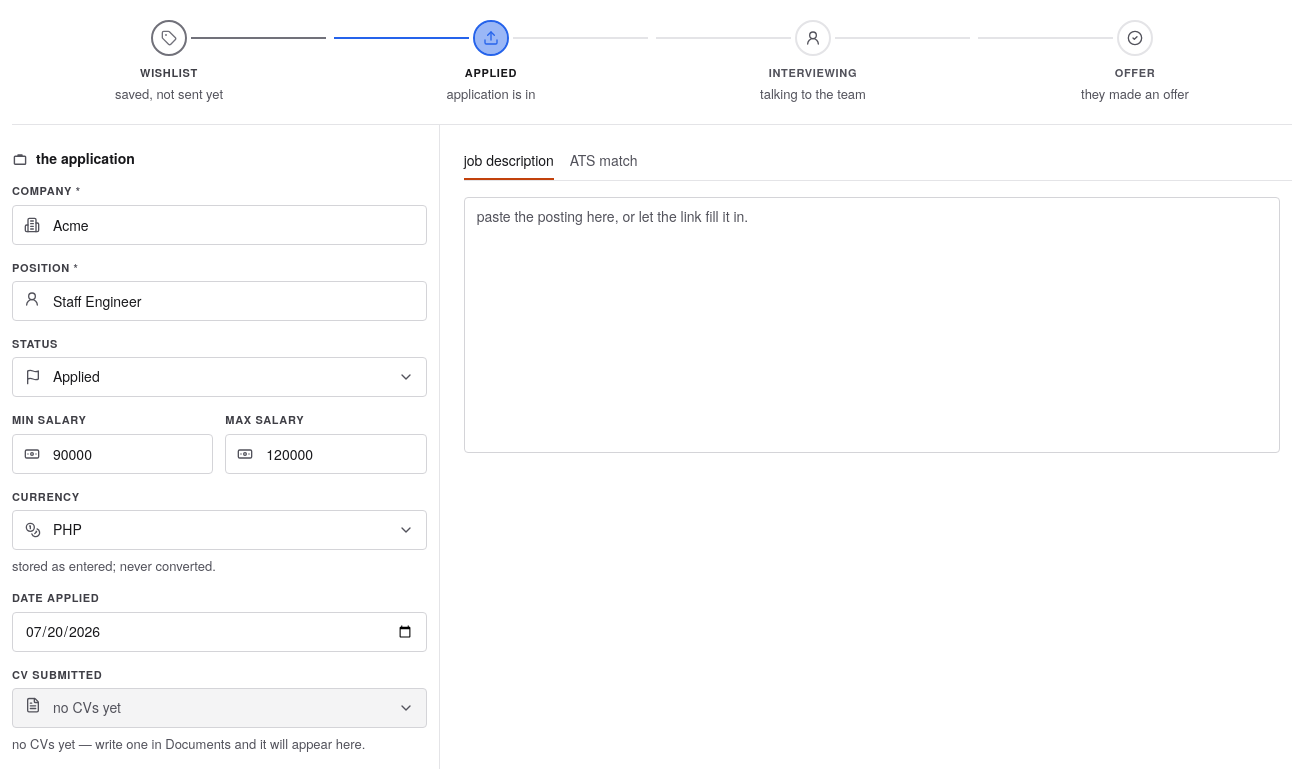
Test case: the interview date on an application record › appears only once the status is interviewing
Click the dropdown named "status" at (76, 376), box x1=12 y1=357 x2=427 y2=397
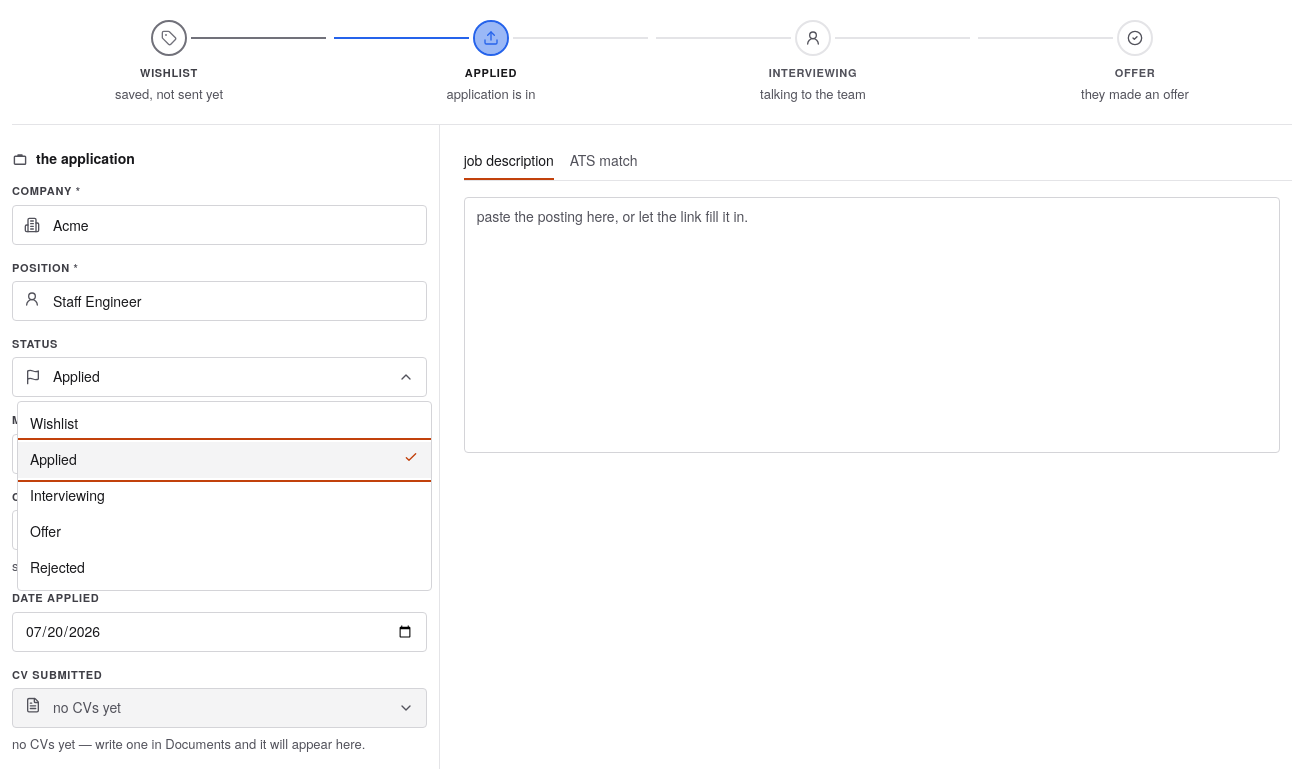
Click the option "Interviewing" at (67, 495), box x1=30 y1=485 x2=105 y2=505
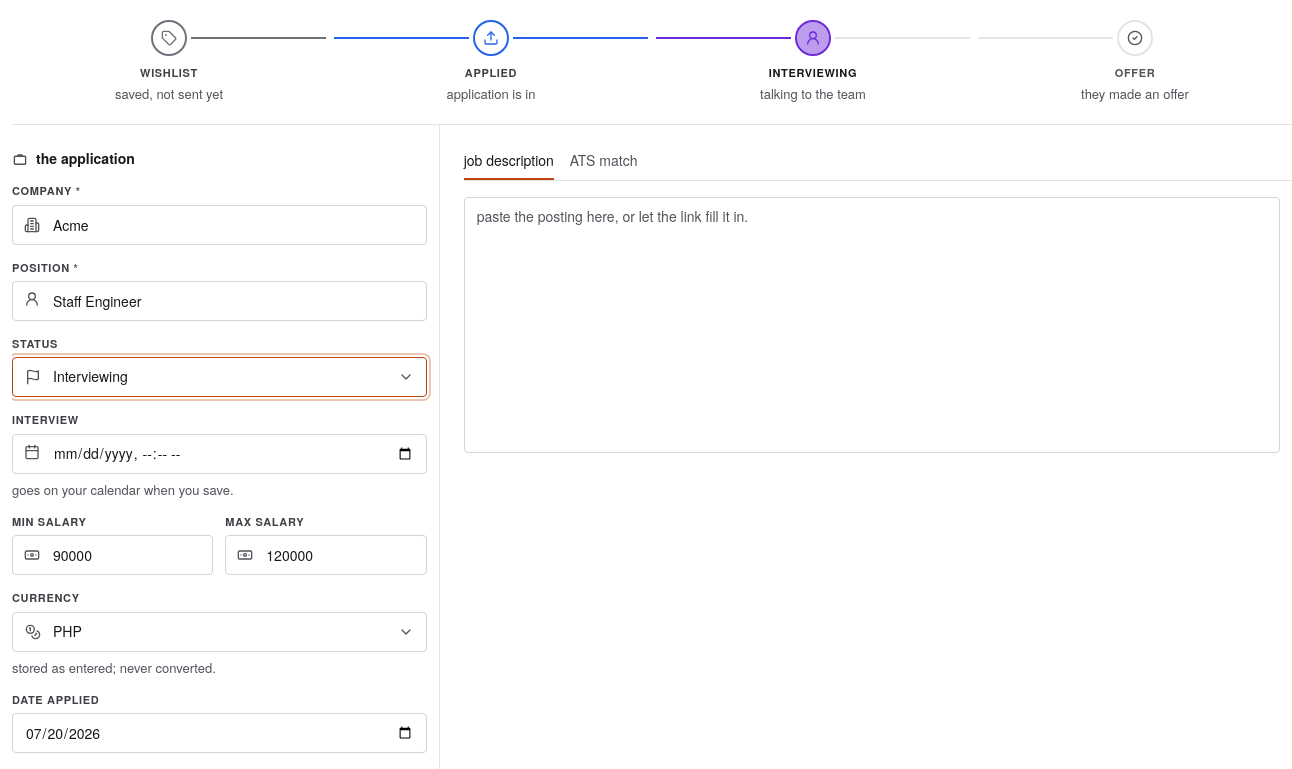
Now the field labelled "interview" is shown, box x1=12 y1=434 x2=427 y2=474
